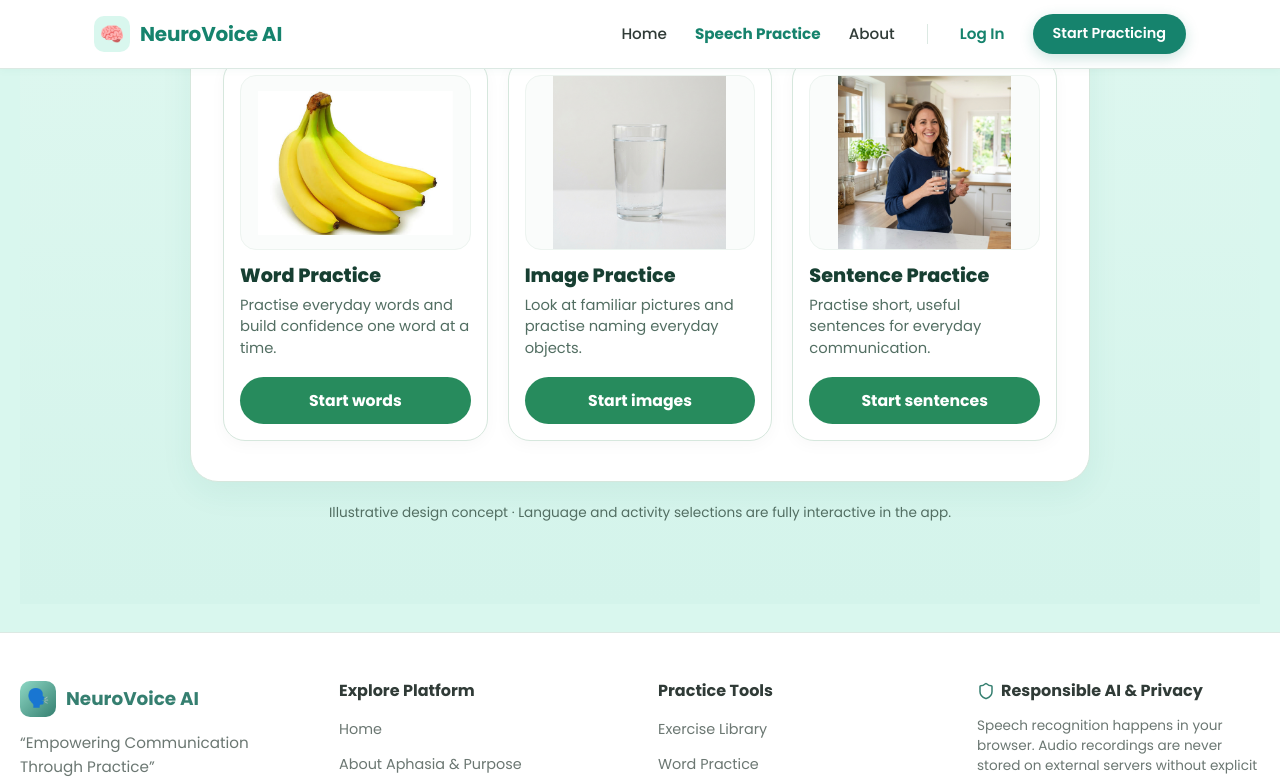
Test: Speech Practice Module - 3 Practice Modes Redesign › starts Word Practice activity with one-word-at-a-time, audio controls, and back button
The width and height of the screenshot is (1280, 777).
(page scrolled)
# Click Start Word Practice
Click the button with aria-label "Start Word Practice". click: {"x": 355, "y": 400}
box: top-left (240, 377), bottom-right (471, 424)
(page scrolled)
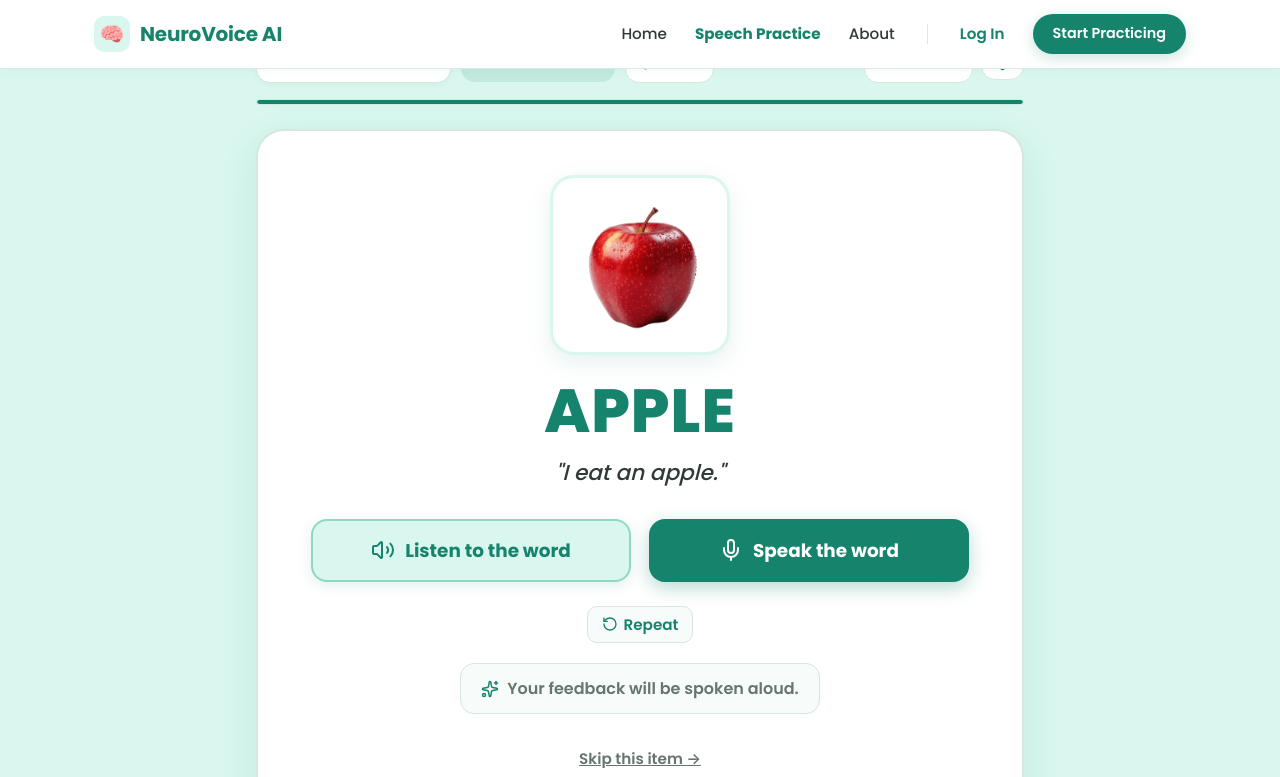
Expected: the button "Back to Activities" is shown, top-left (256, 42), bottom-right (451, 83)
Expected: the text "Word 1 of 1" is shown, top-left (864, 41), bottom-right (973, 83)
Expected: the heading "Apple" is shown, top-left (544, 368), bottom-right (736, 453)
